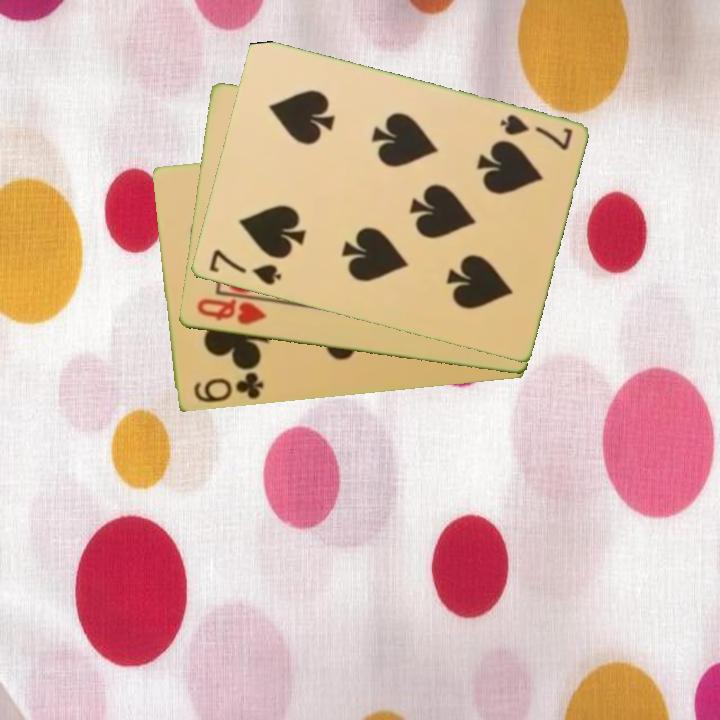6c: (190, 369, 266, 406)
7s: (205, 246, 284, 289), (496, 111, 575, 154)
Qh: (193, 295, 269, 328)
